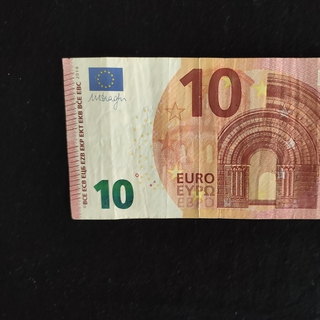10EUROFront: (60, 56, 320, 221)
